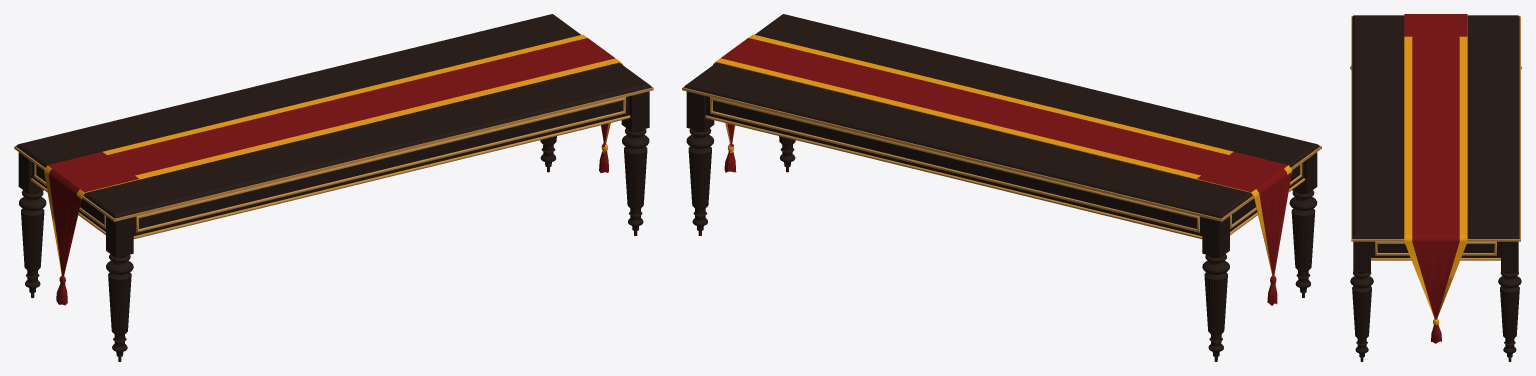
Rendered from FancyTable.FBX.
3 renders of one model, left to right at view 1: azimuth 30°, elevation 25°; view 2: azimuth 150°, elevation 25°; view 3: azimuth 270°, elevation 25°, orthographic. The views are drawn at different scales.
Visible parts, largest first — view 1: Object11, Rectangle30; view 2: Object11, Rectangle30; view 3: Object11, Rectangle30.
Part boxes in pixels (x1,y1,x2,y2): Object11: (14, 14, 653, 361); Rectangle30: (44, 34, 622, 305); Object11: (682, 14, 1321, 361); Rectangle30: (713, 34, 1291, 305); Object11: (1350, 15, 1521, 361); Rectangle30: (1404, 14, 1467, 343).
Size of the model in its own units: 2917 by 775 by 927.
